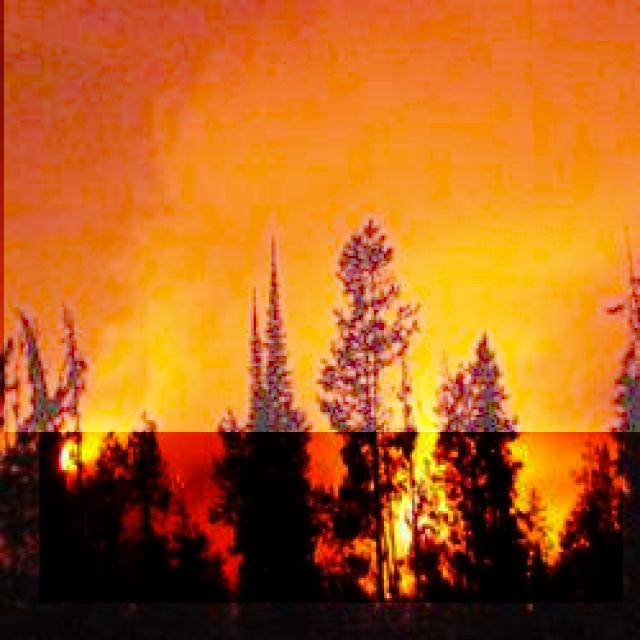Fire: (39, 386, 623, 604)
Smoke: (4, 0, 640, 432)
